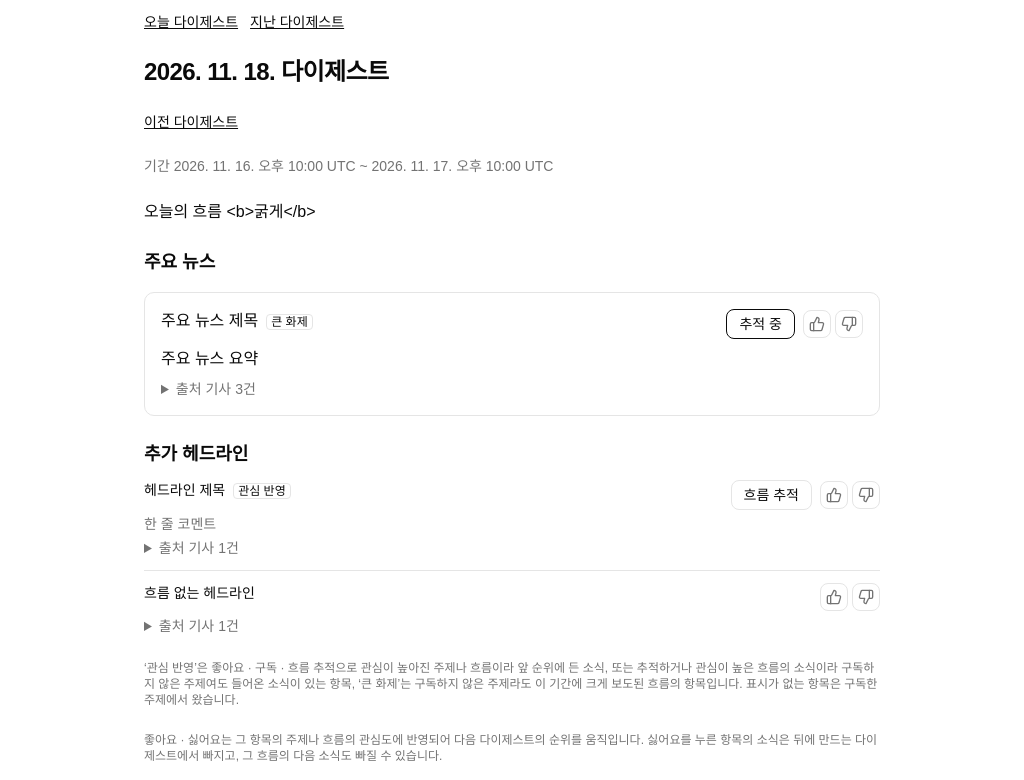
Test: DigestDayPage › 흐름이 있는 항목에만 흐름 추적 버튼을 두고, 상태는 그 다이제스트의 흐름을 한 번에 물어 읽는다
The image size is (1024, 780).
항목에서 추적하면 그 스토리라인의 ID 로 보내고 상태를 다시 읽는다
What coordinates should you click on to do the following:
click the button with aria-label "헤드라인 제목 흐름 추적"
I would click on:
 (771, 495)
Its box is [731,480,812,510].
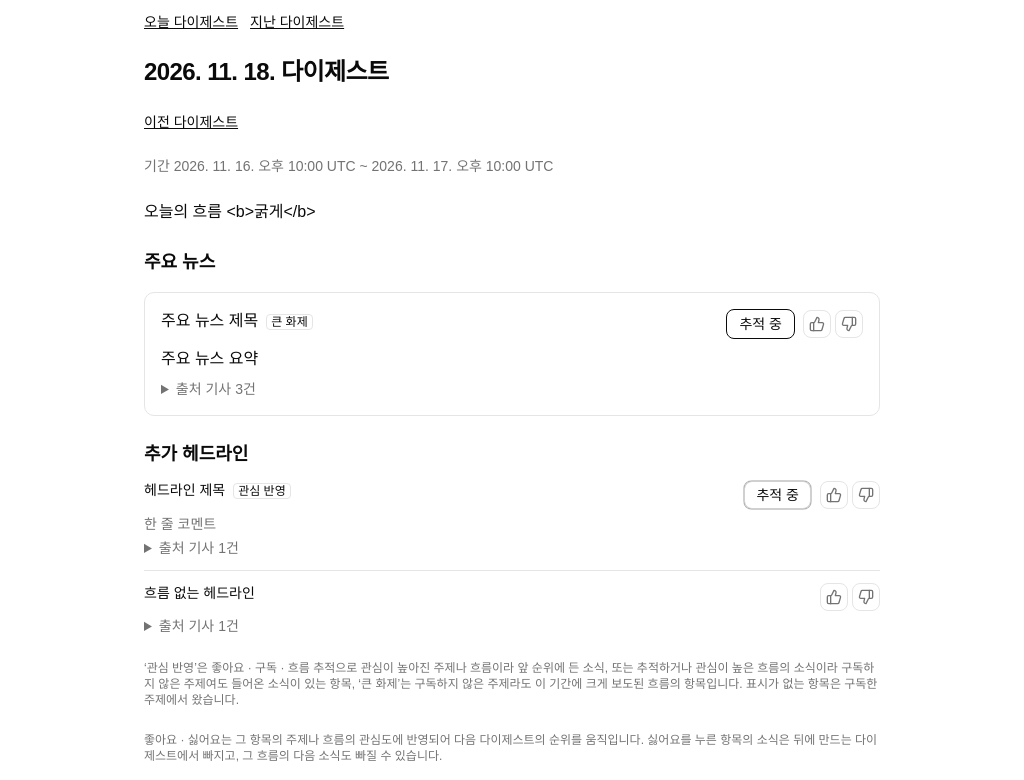
Expected: the button with aria-label "헤드라인 제목 추적 중" is shown, [744,480,812,510]
